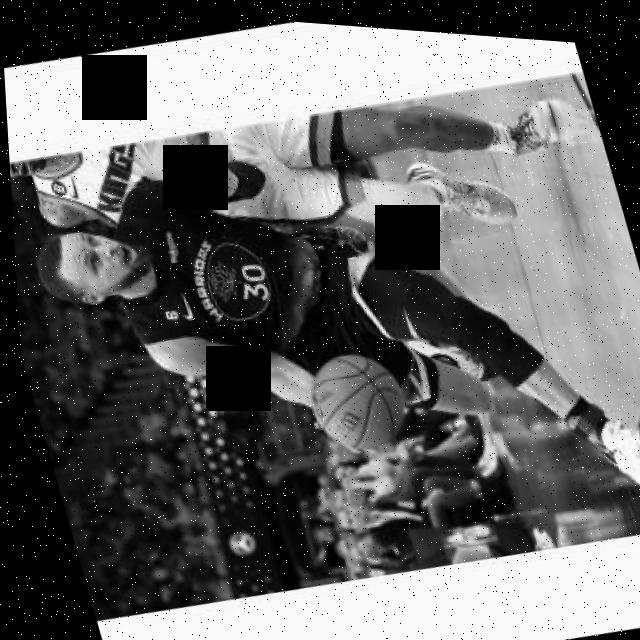shoe: (396, 135, 517, 234), (582, 391, 640, 485), (485, 84, 562, 153)
